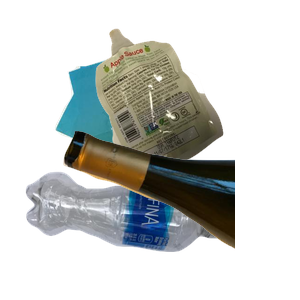glass: (60, 128, 300, 300)
paper: (52, 49, 209, 198)
plastic: (23, 169, 243, 300)
trash: (93, 26, 300, 200)
